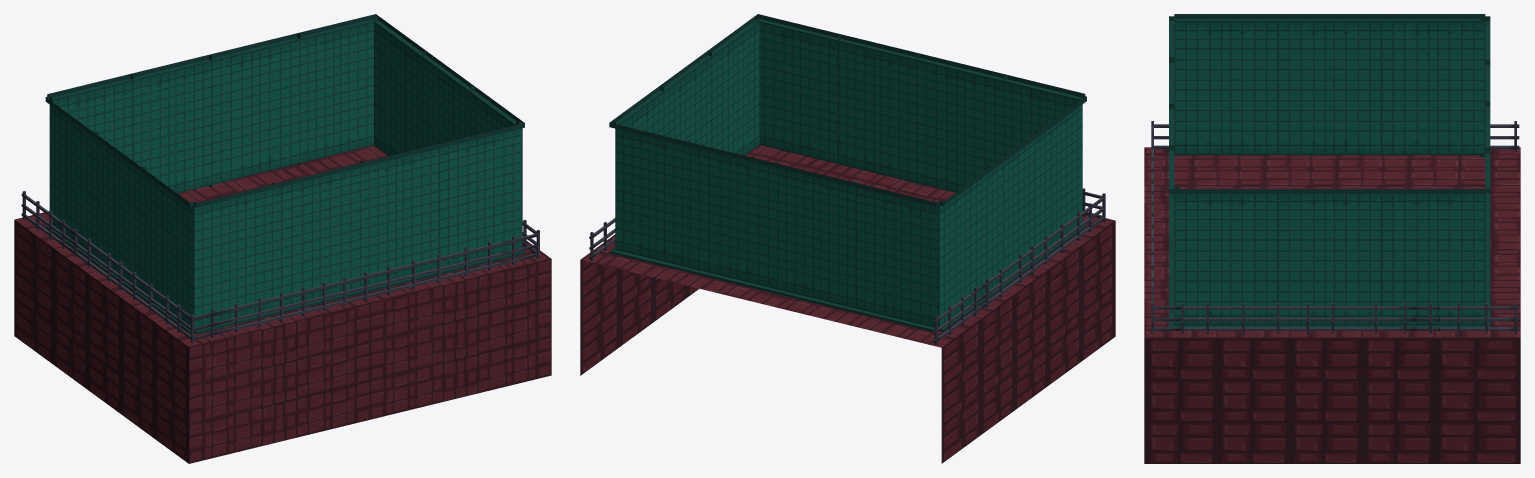
Rendered from SectorLvl1.fbx.
3 views of the same model, side by side, from view 1: azimuth 30°, elevation 25°; view 2: azimuth 150°, elevation 25°; view 3: azimuth 270°, elevation 25° (orthographic). The views are drawn at different scales.
Visible parts, largest first — view 1: Pared1Lvl1, Suelo1Lvl1, Baras; view 2: Pared1Lvl1, Suelo1Lvl1, Baras; view 3: Pared1Lvl1, Suelo1Lvl1, Baras.
Part boxes in pixels (left/top/right/bottom): Pared1Lvl1: left=45, top=14, right=524, bottom=334; Suelo1Lvl1: left=14, top=145, right=551, bottom=463; Baras: left=21, top=191, right=539, bottom=343; Pared1Lvl1: left=609, top=14, right=1086, bottom=332; Suelo1Lvl1: left=580, top=145, right=1115, bottom=463; Baras: left=589, top=188, right=1105, bottom=344; Pared1Lvl1: left=1169, top=14, right=1490, bottom=327; Suelo1Lvl1: left=1144, top=147, right=1520, bottom=463; Baras: left=1151, top=121, right=1519, bottom=333.
Bounding box in the file's own units: 21441 × 13994 × 17882.
Materials: 2 (2 with a texture image).
